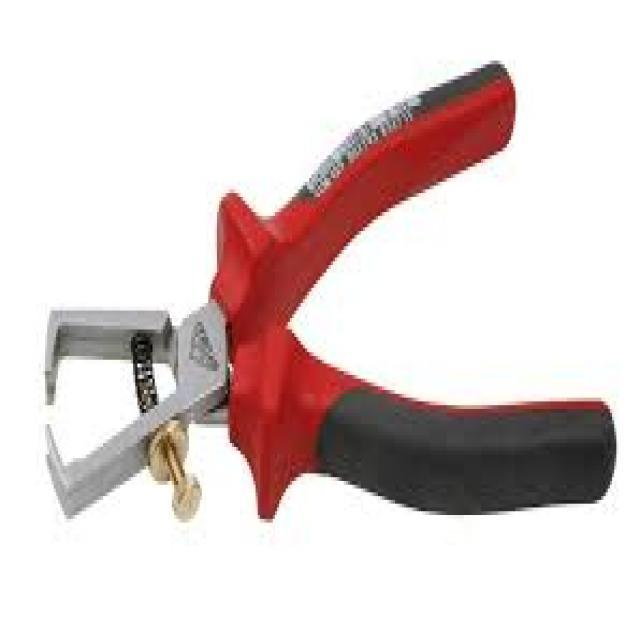pliers: (30, 46, 622, 532)
